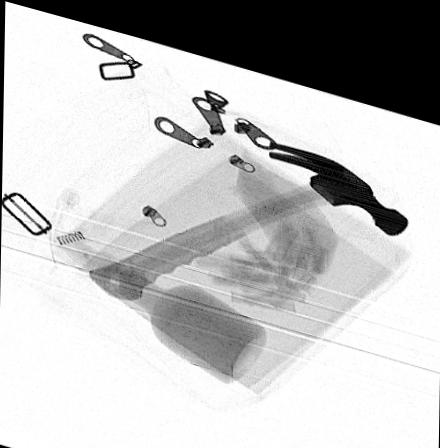Hammer: (87, 124, 408, 293)
